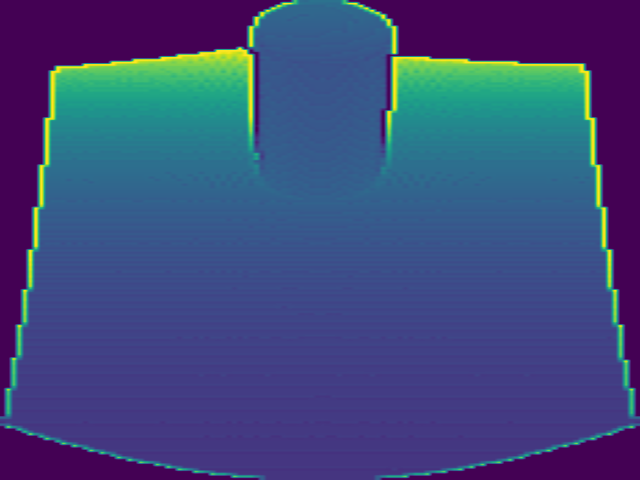cylinder: (245, 3, 397, 199)
